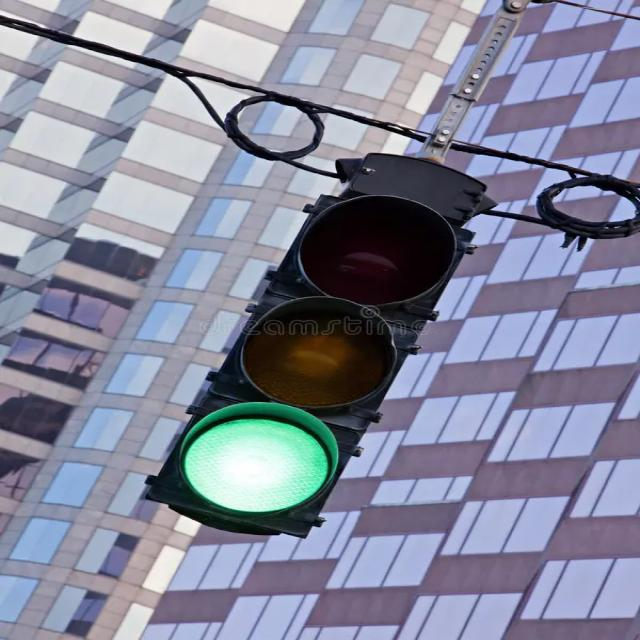green: (165, 400, 348, 524)
